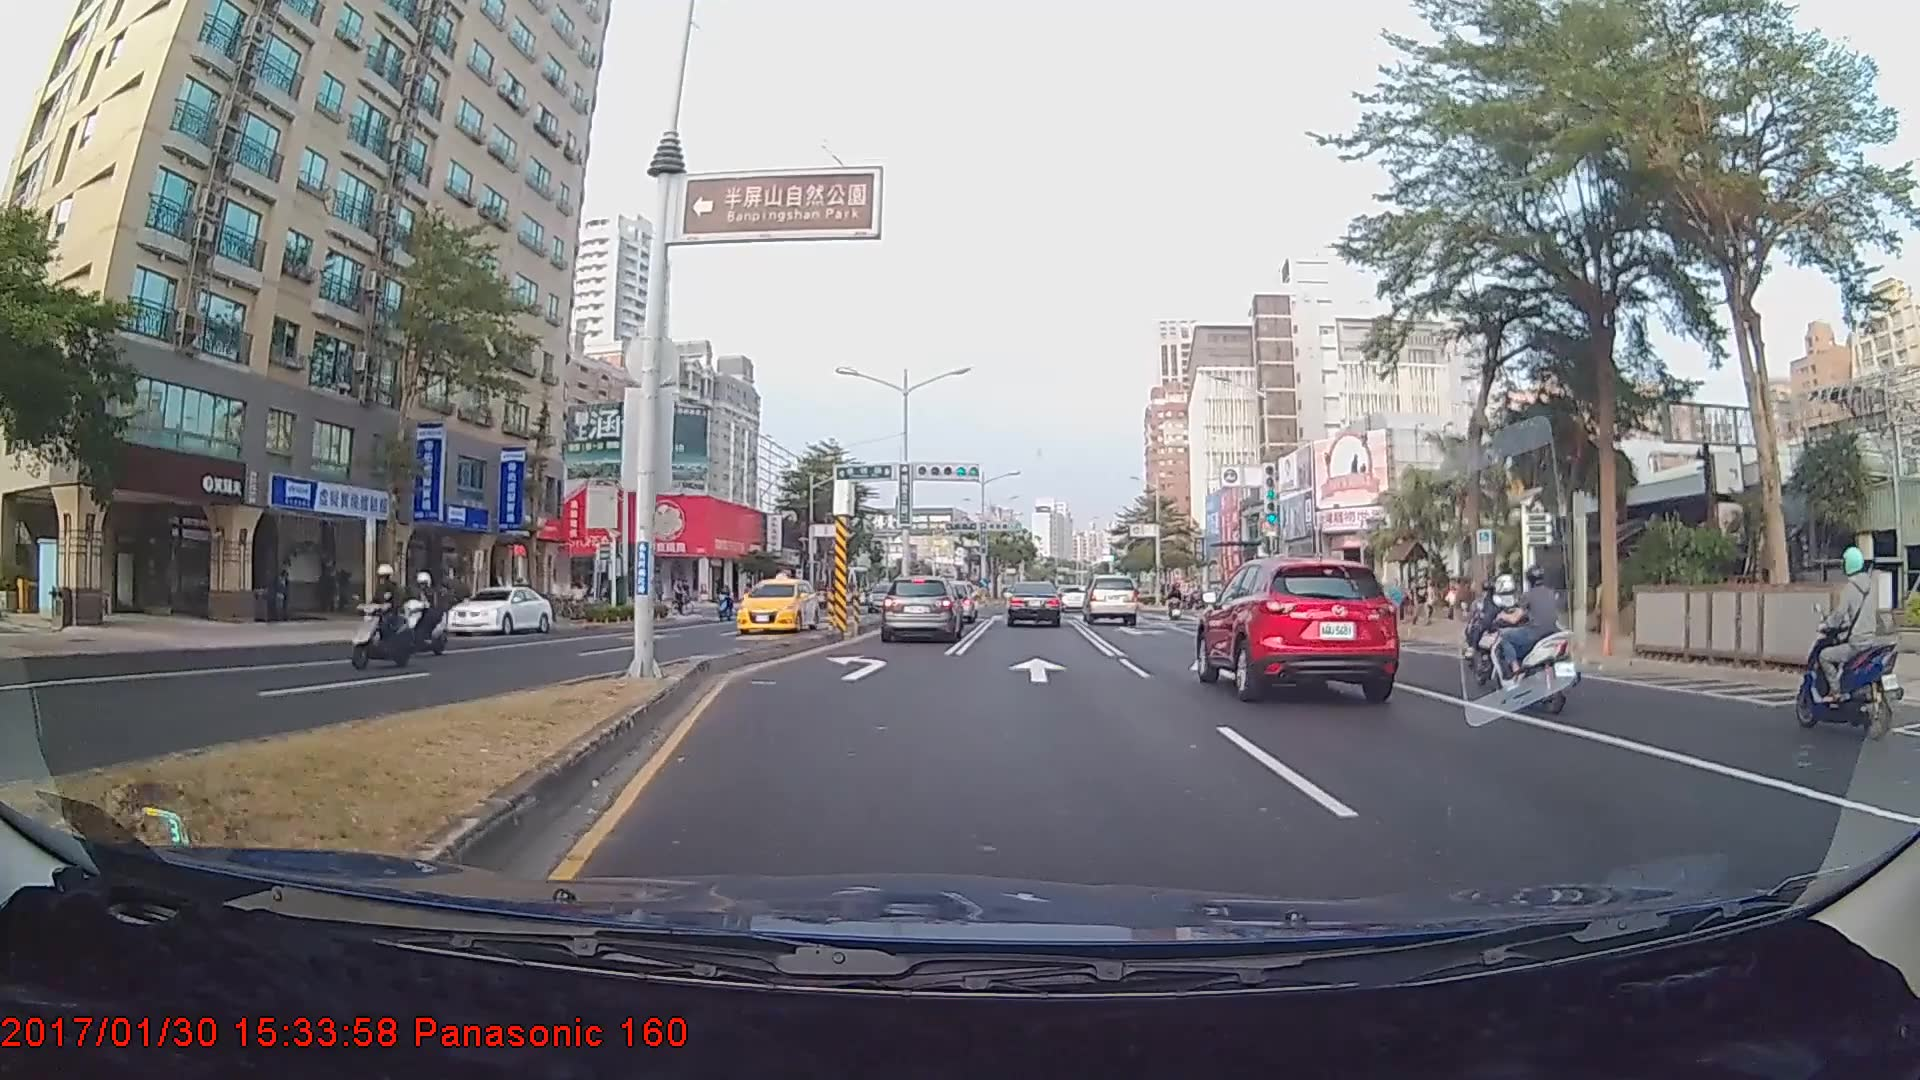rider: (1796, 541, 1911, 742), (1484, 562, 1589, 715), (344, 564, 414, 672), (386, 573, 445, 661)
vehicle: (1201, 550, 1402, 700), (446, 583, 552, 634), (879, 577, 960, 642), (735, 573, 819, 633), (1082, 574, 1138, 626), (1004, 580, 1061, 627)
